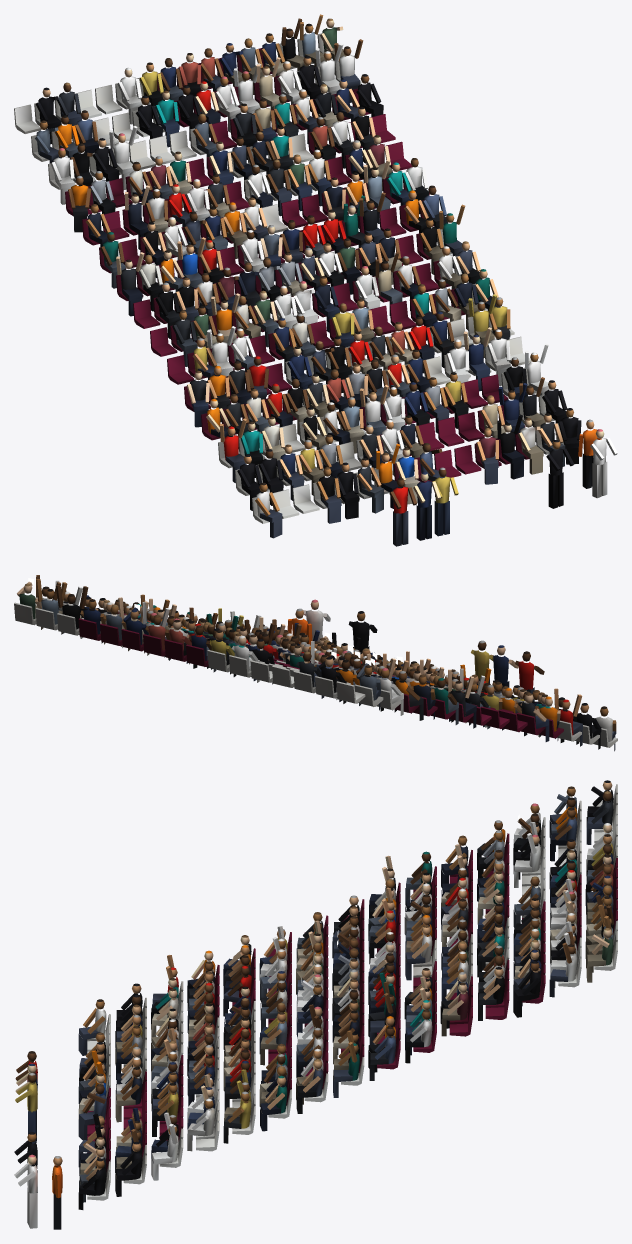
Rendered from stand_T16_kit_2.glb.
3 renders of one model, top to bottom at view 1: azimuth 30°, elevation 25°; view 2: azimuth 150°, elevation 25°; view 3: azimuth 270°, elevation 25°, orthographic. The views are drawn at different scales.
Parts seen in each view (by area): view 1: kit_2; view 2: kit_2; view 3: kit_2.
Boxes of the visible parts, x1=… form: kit_2: x1=14, y1=14, x2=617, y2=546; kit_2: x1=14, y1=575, x2=617, y2=751; kit_2: x1=14, y1=780, x2=617, y2=1229.
Bounding box in the file's own units: 9.02 × 7.41 × 13.34.
